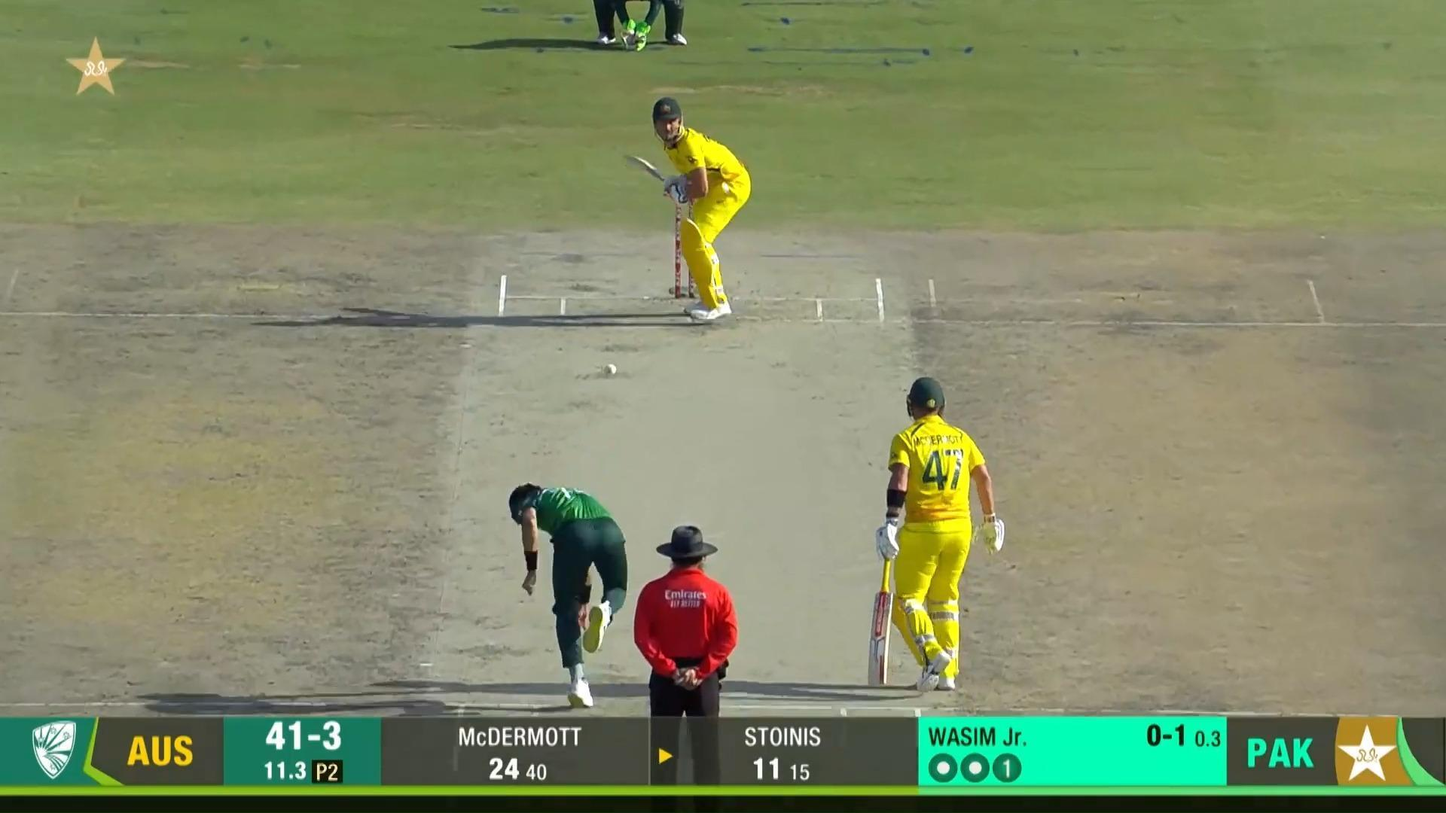BM 1: (625, 96, 754, 323)
BO: (508, 482, 631, 711)
